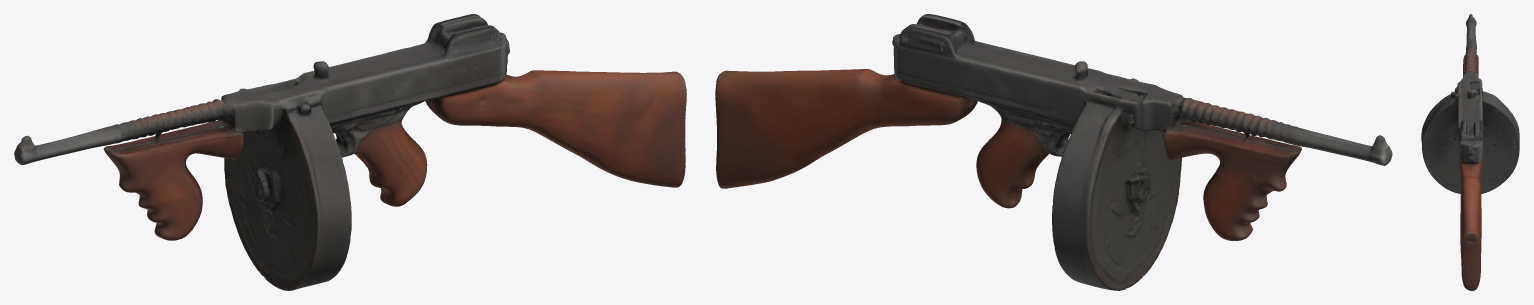
The model's file is Thompson Submachine.glb.
3 views of the same model, side by side, from view 1: azimuth 30°, elevation 25°; view 2: azimuth 150°, elevation 25°; view 3: azimuth 270°, elevation 25° (orthographic). The views are drawn at different scales.
Bounding box in the file's own units: 2 × 0.6156 × 0.4889.
1 material, 1 textured.
